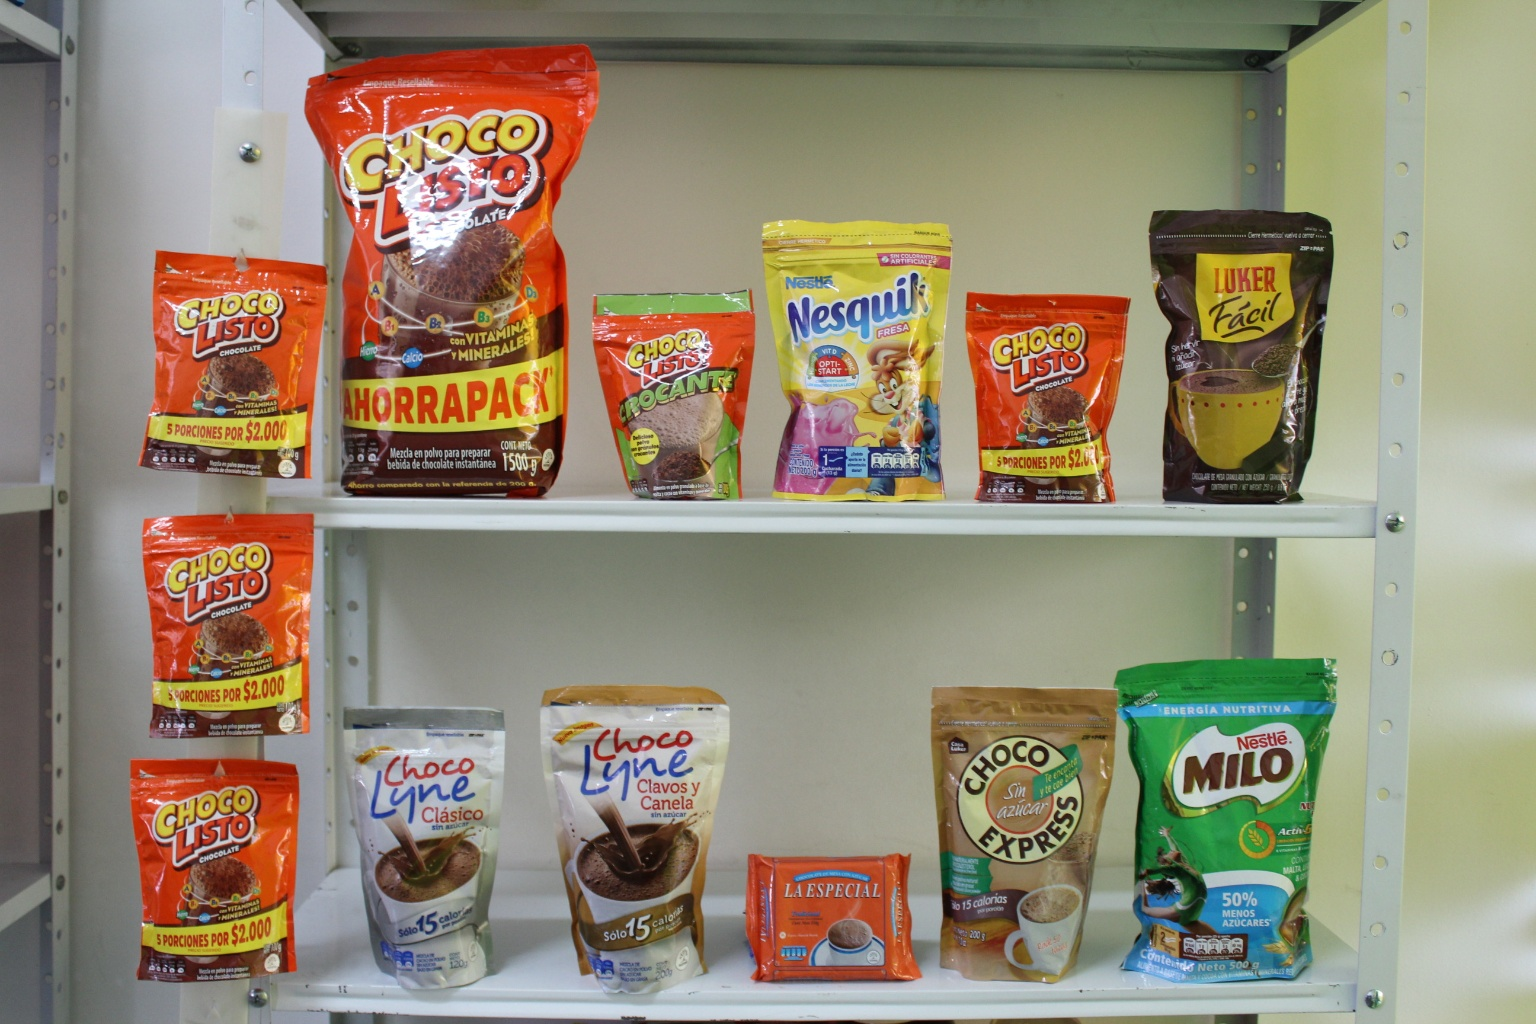COL0170102DYP10000: (581, 270, 755, 514)
COL0170103DYP1,500: (303, 54, 607, 504)
COL0170205DYP50000: (1117, 646, 1347, 995)
COL0170305DYP20000: (761, 198, 975, 507)
